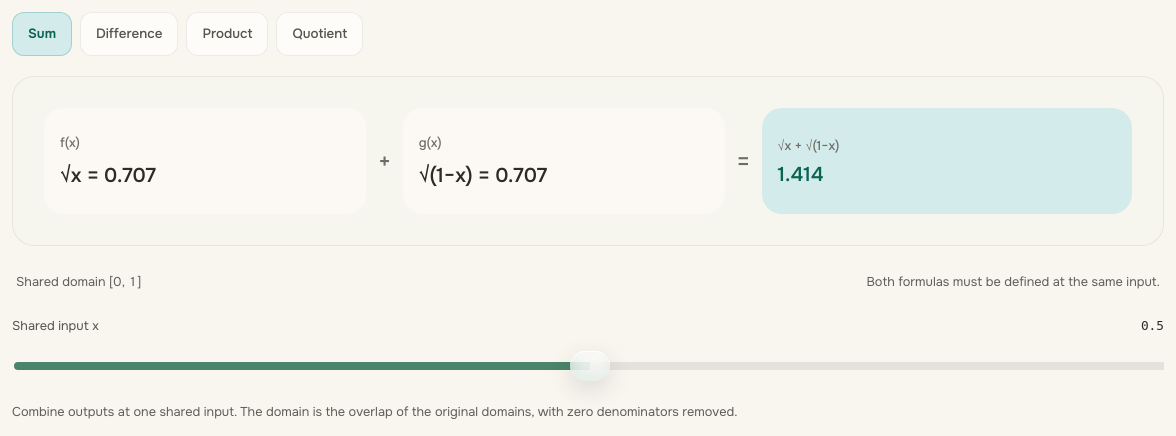
Test: SystemsDiagram › restricts a quotient when its denominator function is zero
Click the tab "Quotient" at (320, 34), box [276,12,363,56]
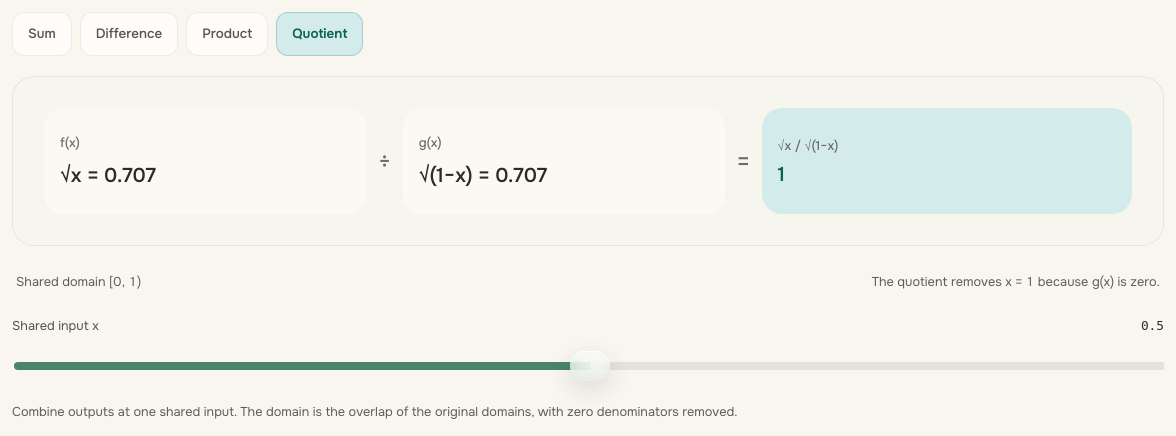
Set the slider named "Shared input x" to "1" at (1156, 366), box [14,344,1164,388]
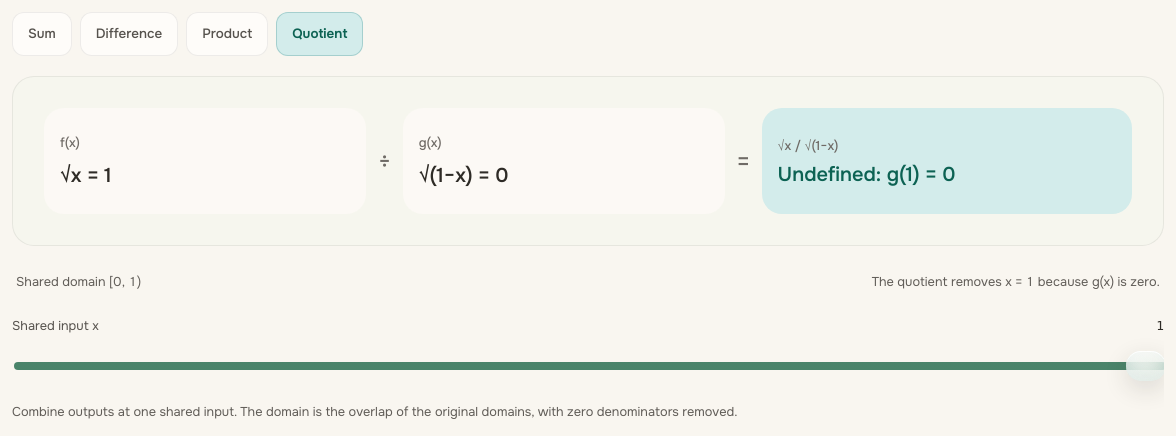
expect the text "The quotient removes x = 1 because g(x) is zero." is shown: met, box [872,274,1160,290]
expect the text "Undefined: g(1) = 0" is shown: met, box [778,162,955,187]
